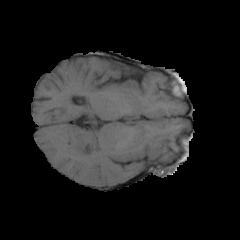glioma: (48, 132, 118, 166)
